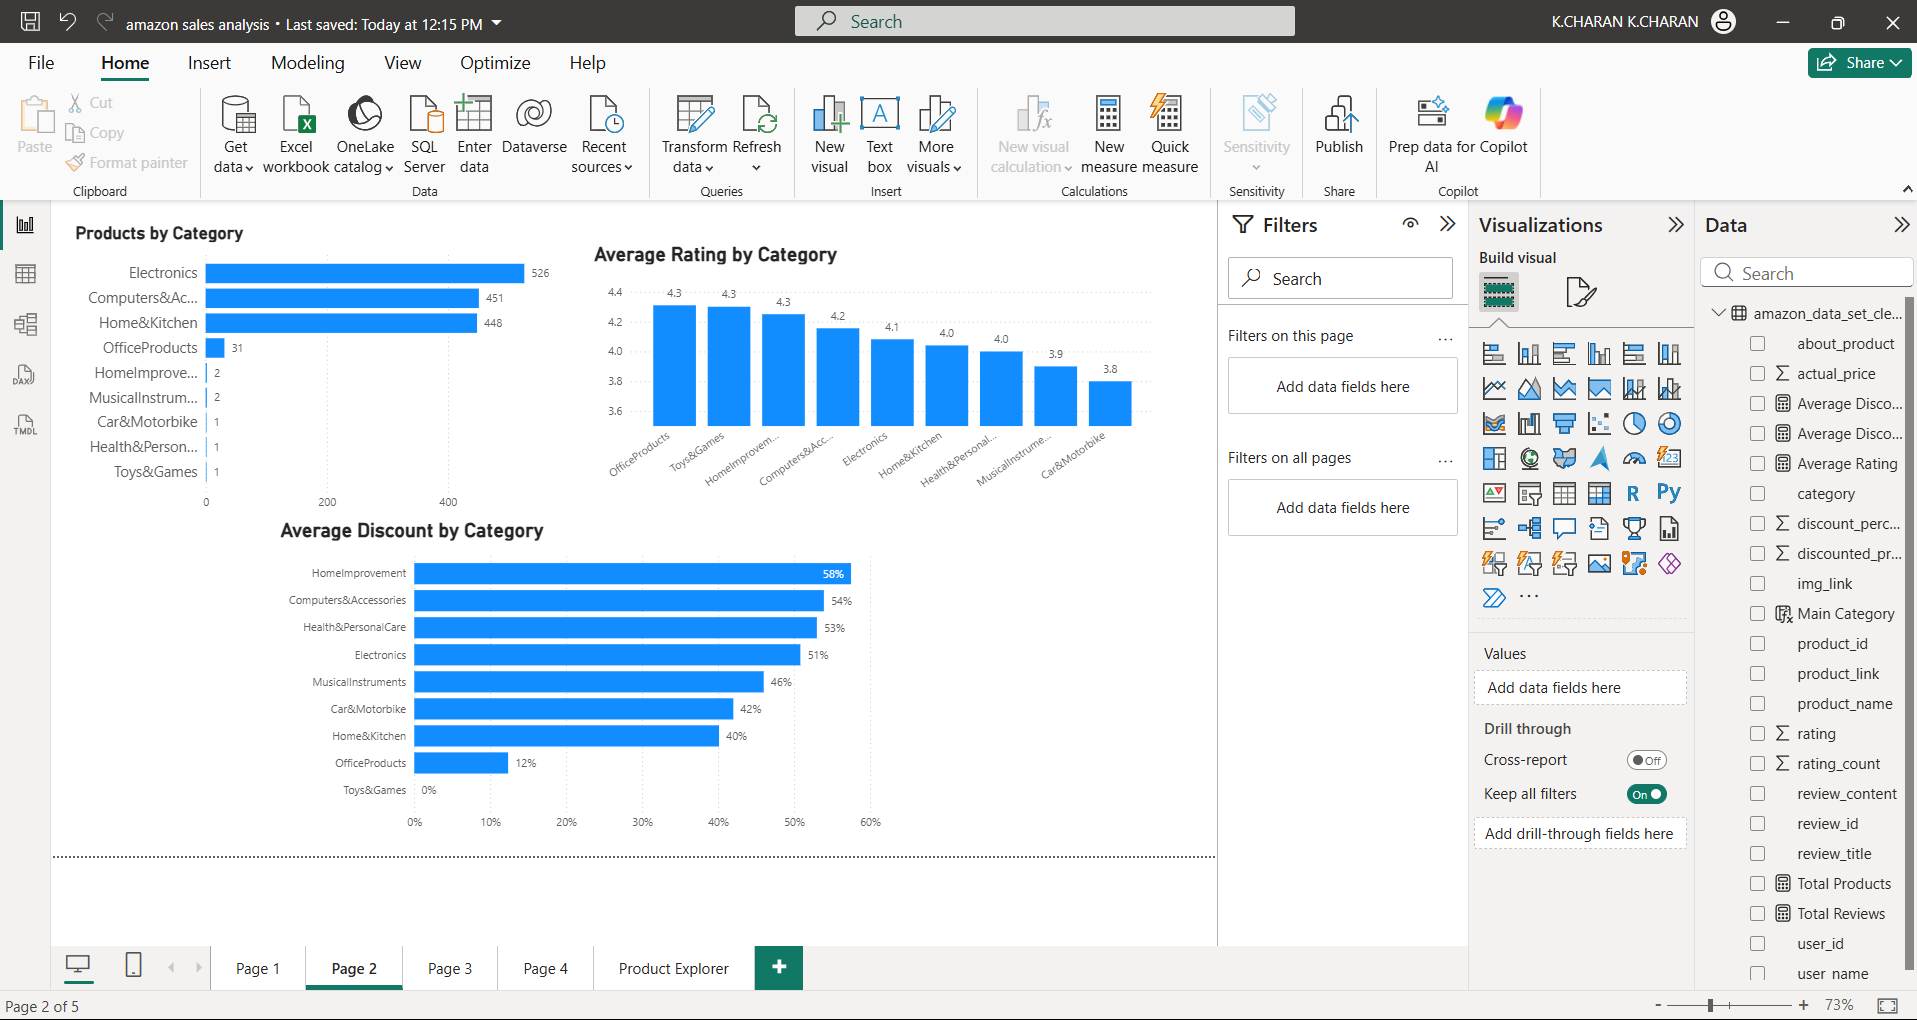

This screenshot's page, from the dashboard's own definition file:
{"tool":"powerbi","page":{"name":"Page 2","canvas":[1280,720],"ordinal":1},"visuals":[{"type":"clusteredBarChart","title":"Products by Category","fields":{"Category":["amazon_data_set_cleaned.Main Category"],"Y":["CountNonNull(amazon_data_set_cleaned.product_id)"]},"box":[22,24.5,541.7,325.3],"z":0},{"type":"clusteredColumnChart","title":"Average Rating by Category","fields":{"Category":["amazon_data_set_cleaned.Main Category"],"Y":["Avg(amazon_data_set_cleaned.rating)"]},"box":[591.9,46.5,624.9,283.7],"z":1000},{"type":"clusteredBarChart","title":"Average Discount by Category","fields":{"Category":["amazon_data_set_cleaned.Main Category"],"Y":["amazon_data_set_cleaned.Average Discount"]},"box":[247,349.7,678.7,351],"z":2000}]}

Visuals, with their boxes on the page's 1280x720 design canvas (x1, y1, x2, y2). These are canvas units, not pixel positions in the 1917x1020 screenshot, which may show the page scaled, cropped or inside an application window:
"Products by Category" clusteredBarChart: bbox=(22, 24, 564, 350)
"Average Rating by Category" clusteredColumnChart: bbox=(592, 46, 1217, 330)
"Average Discount by Category" clusteredBarChart: bbox=(247, 350, 926, 701)
